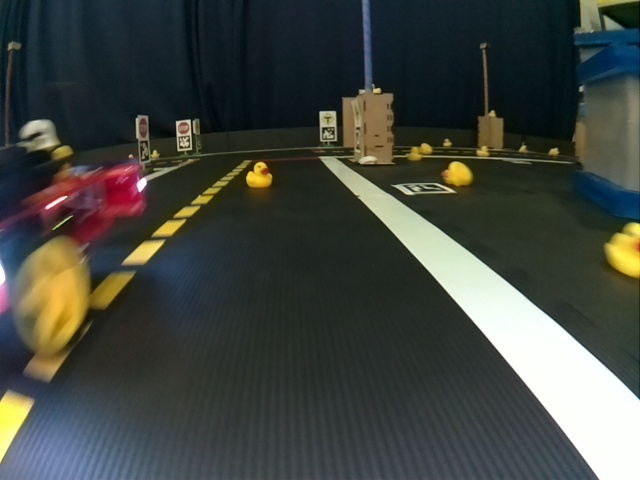Duckie: (604, 223, 638, 276), (442, 162, 471, 186), (248, 162, 272, 186), (409, 146, 419, 160), (421, 143, 433, 154), (477, 146, 488, 155), (442, 139, 451, 148), (518, 144, 527, 153), (151, 149, 160, 158), (548, 147, 558, 155)
Duckiebot: (5, 158, 148, 356)
Intersection sign: (321, 112, 335, 126)
QR code: (392, 182, 455, 196), (178, 136, 192, 150), (321, 128, 337, 140), (140, 141, 149, 162)
Stop sign: (138, 118, 148, 138), (177, 121, 190, 134)
